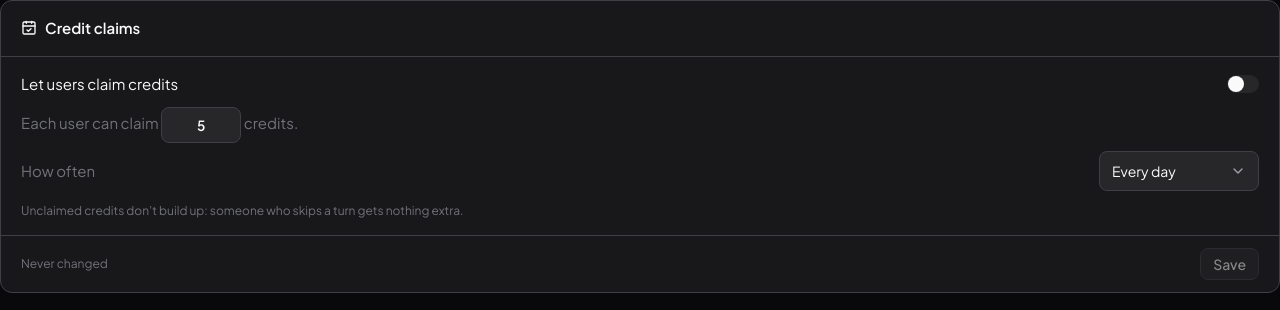
DailyCreditsCard › puts the saved values back on Undo
Click the switch named "Let users claim credits".
click(1243, 84)  # box [1227,74,1259,93]
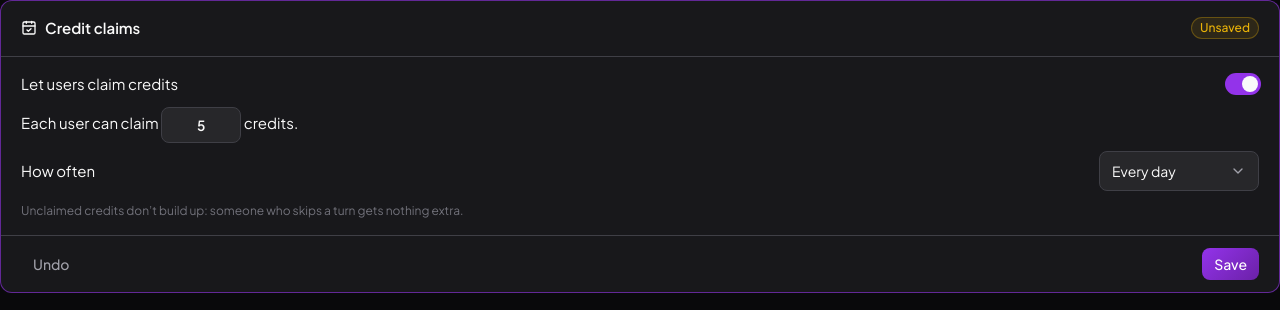
Replace the text in the field named "Credits per claim" with "9" at (201, 125), box [161,107,241,143]
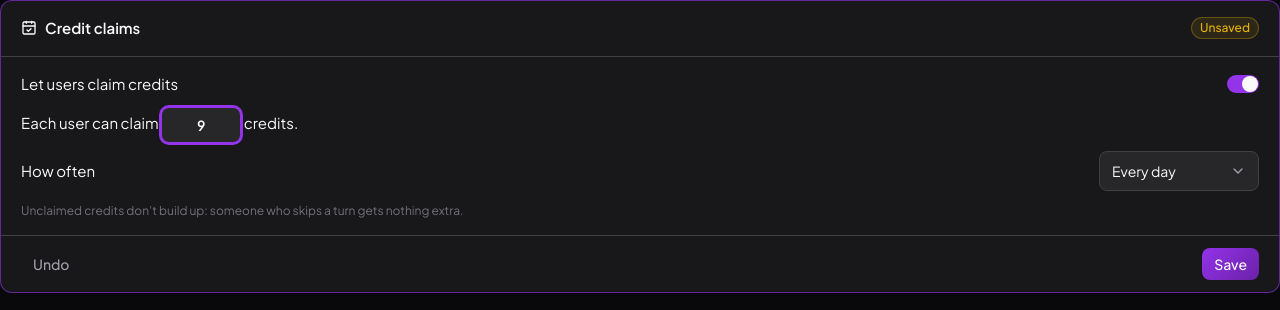
Click the button "Undo".
click(51, 264)  # box [21,248,82,280]
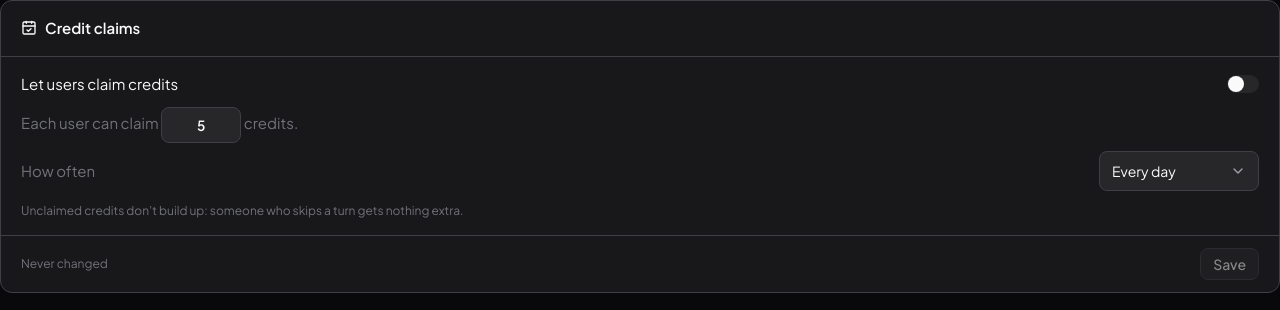
Check: the field named "Credits per claim" holds "5", box [161,107,241,143]
Check: the button "Save" is disabled, box [1200,248,1259,280]
